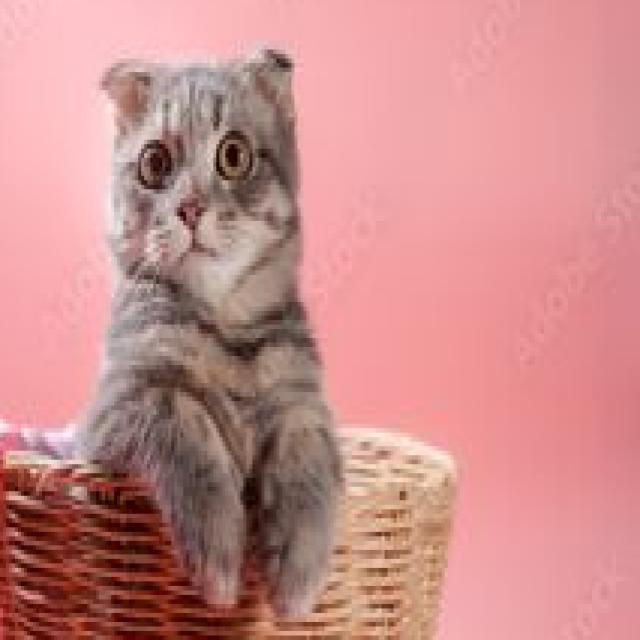Scottish Fold: (72, 41, 348, 629)
